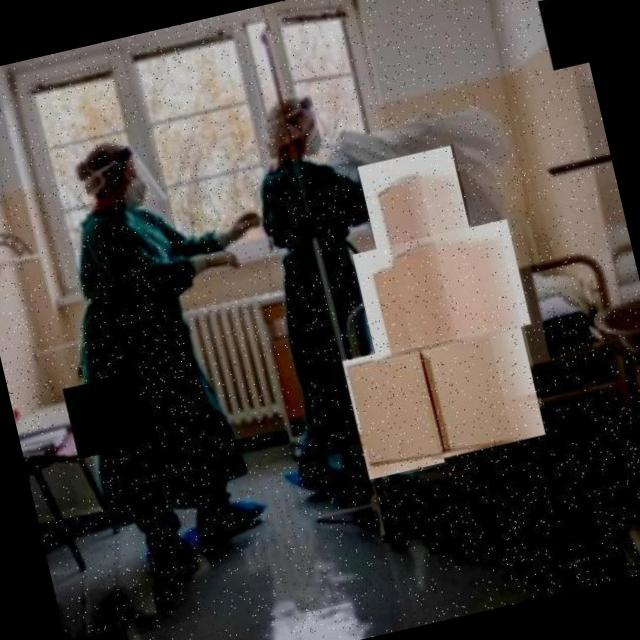box: (350, 217, 535, 362), (416, 322, 548, 461), (355, 143, 478, 277), (341, 341, 447, 482)
